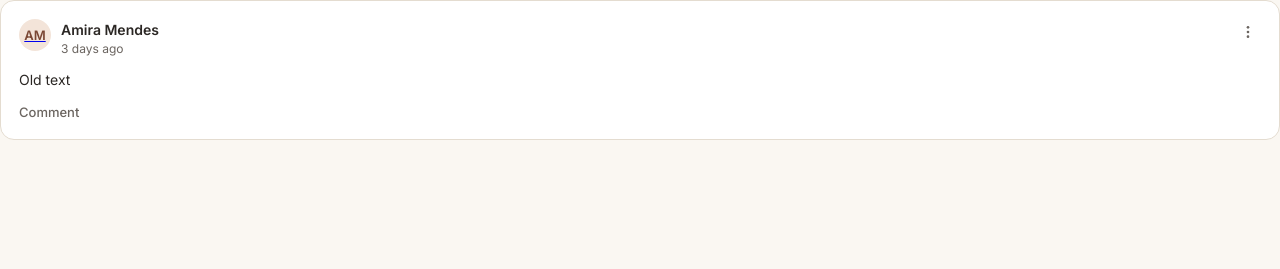
it: PostCard › Cancel (or Escape) leaves the text and returns focus to the menu
The width and height of the screenshot is (1280, 269).
Click the button named "Post actions": (1248, 32) [1235,19,1261,45]
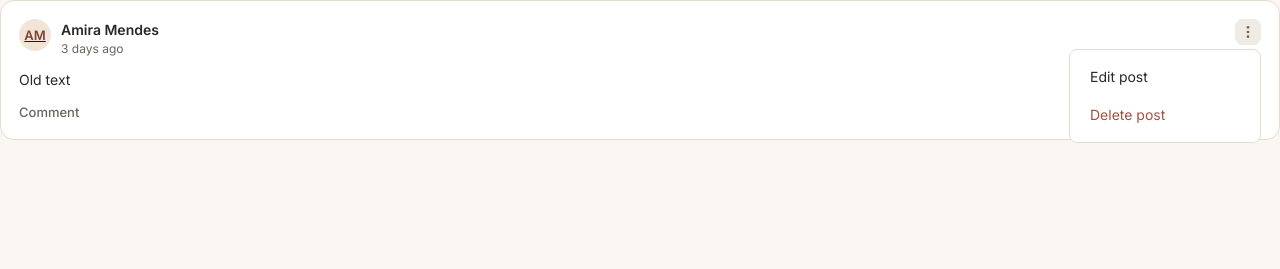
Click the menu item "Edit post": (1119, 76) [1090,68,1148,85]
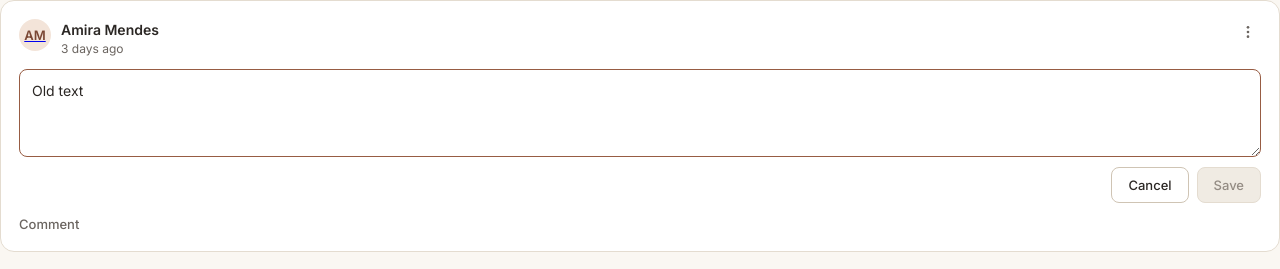
In the text box named "Edit post": (640, 113) [19,69,1261,157], type " more"
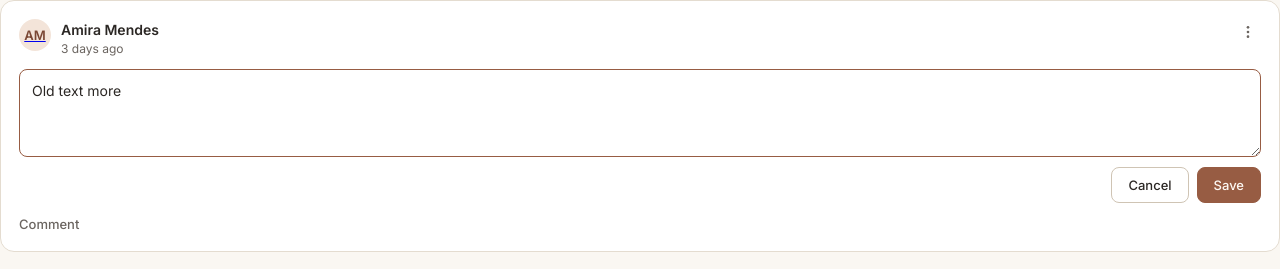
Press Escape
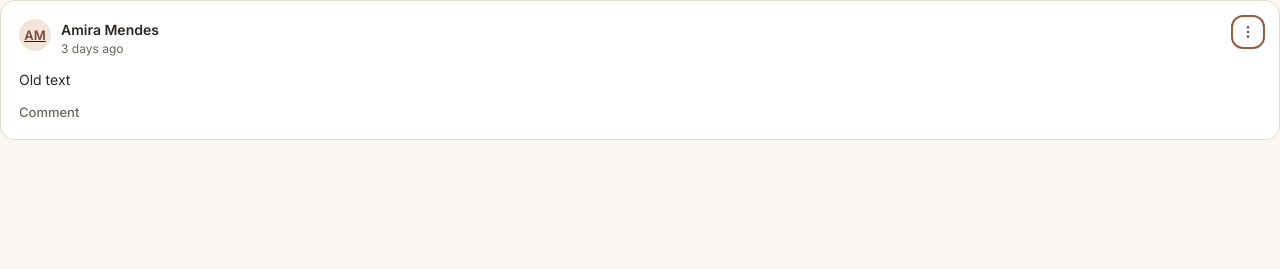
Expected: the menu item "Edit post" is not shown
Now the text "Old text" is shown, box [19,71,70,88]
